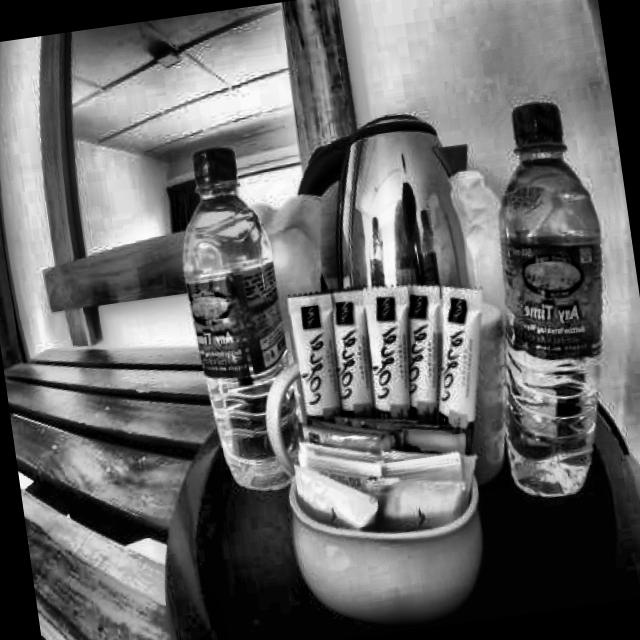waterbottle: (447, 88, 640, 512), (162, 127, 326, 505)
